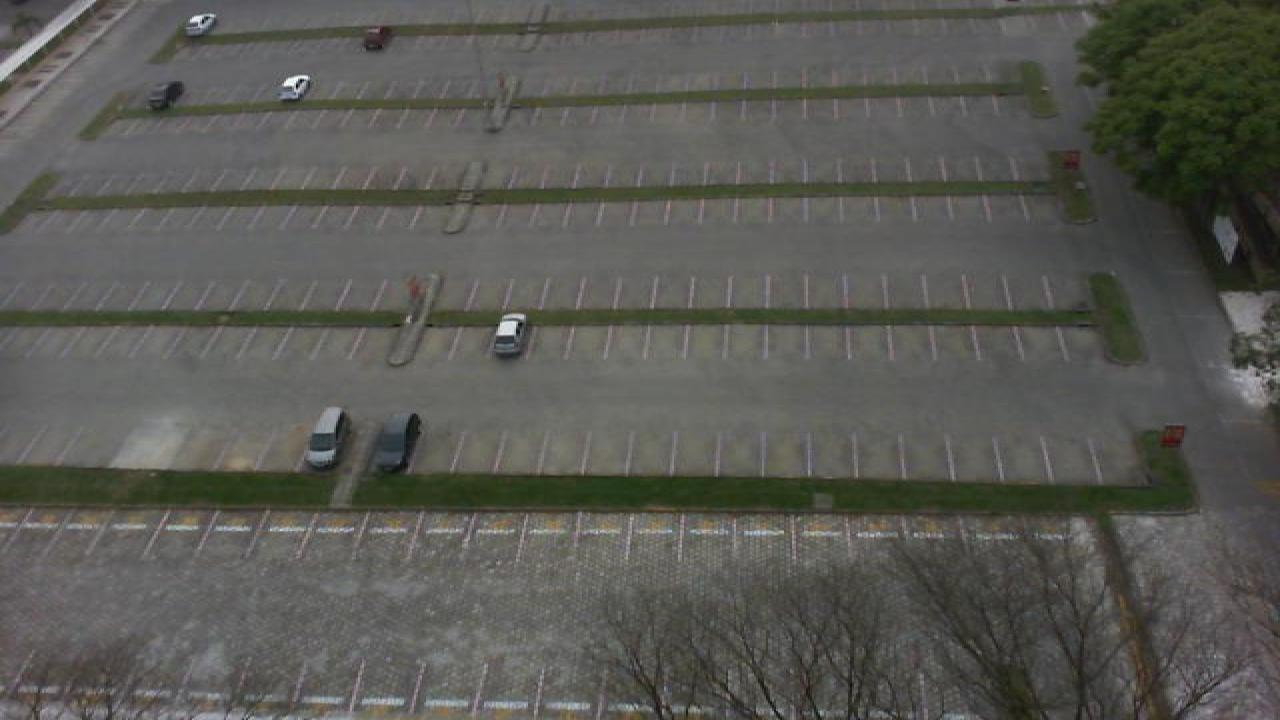Car: (300, 406, 348, 473), (374, 411, 424, 474), (488, 312, 528, 358), (148, 80, 186, 111), (276, 74, 312, 102), (182, 12, 218, 38), (360, 25, 394, 52)
